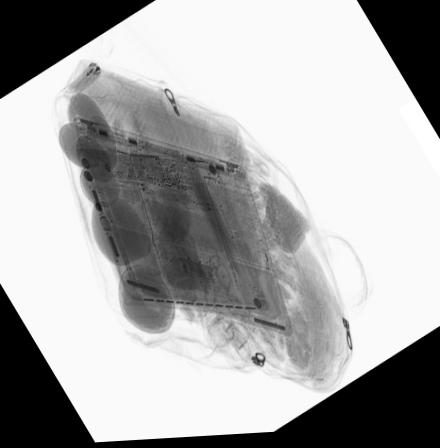Lighter: (65, 60, 104, 99)
